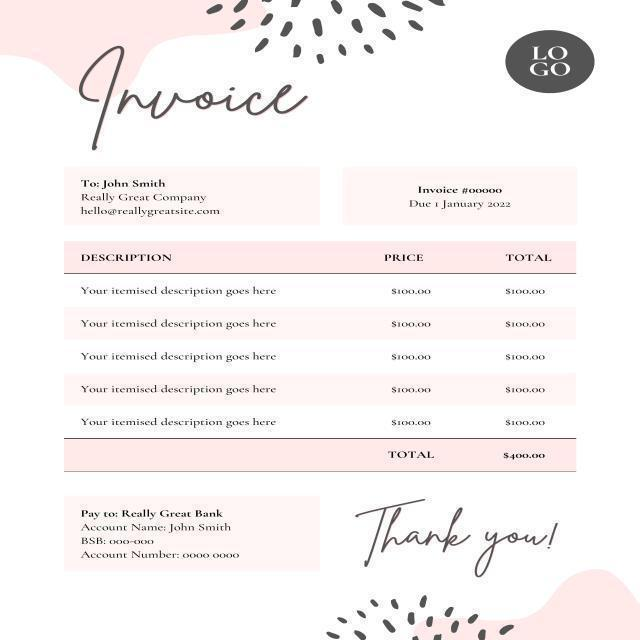paragraph: (74, 39, 319, 155), (344, 493, 564, 583), (74, 502, 258, 564), (71, 170, 240, 221), (381, 439, 562, 467), (400, 179, 532, 214), (521, 37, 577, 85)
table: (67, 240, 563, 436)
